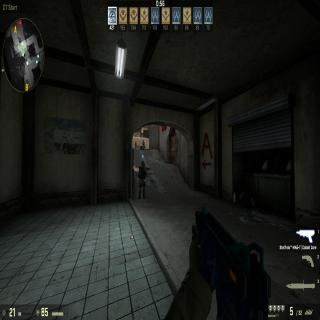CT-Body: (138, 160, 145, 198)
CT-Head: (140, 161, 144, 168)
T-Body: (142, 139, 144, 150), (134, 140, 136, 149)
